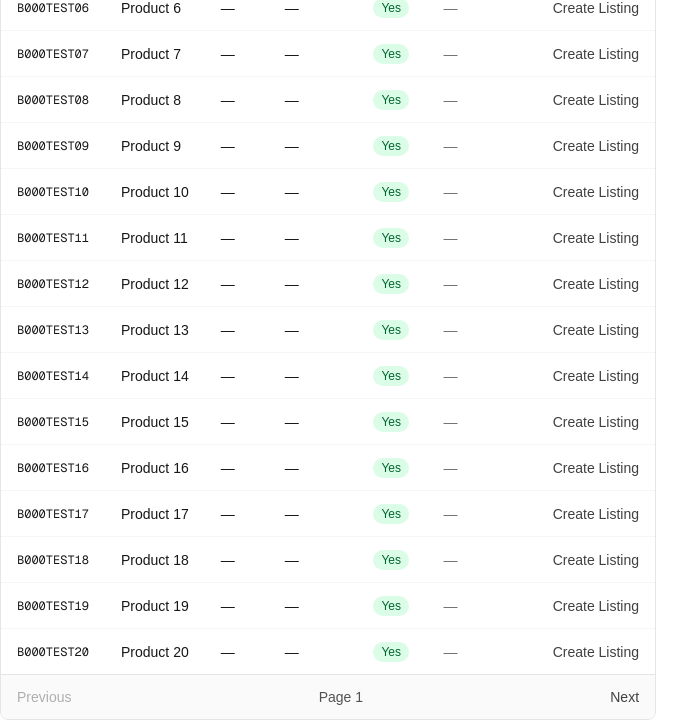
ProductsPage › navigates to previous page
(page scrolled)
Click the button "Next" at (625, 697), box x1=610 y1=687 x2=639 y2=707
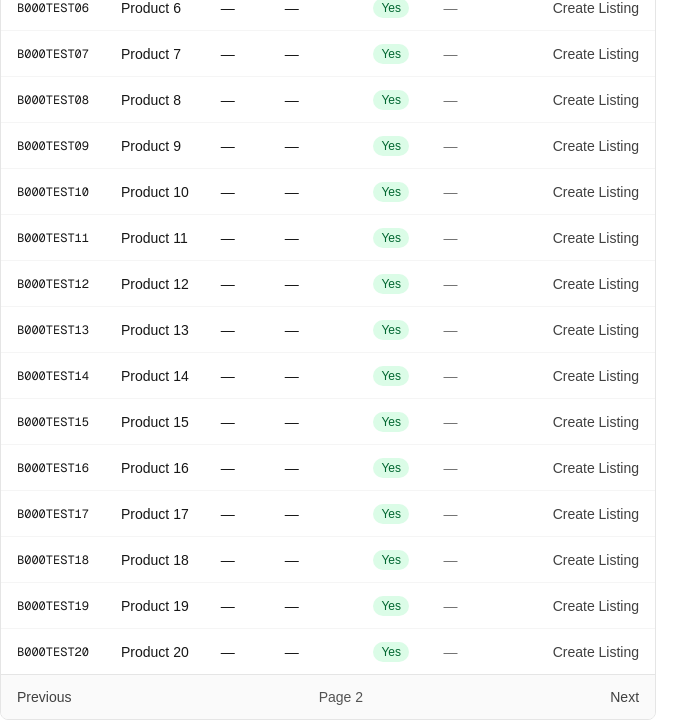
Result: the text "Page 2" is shown at x1=319 y1=687 x2=363 y2=707
Click the button "Previous" at (44, 697), box x1=17 y1=687 x2=72 y2=707
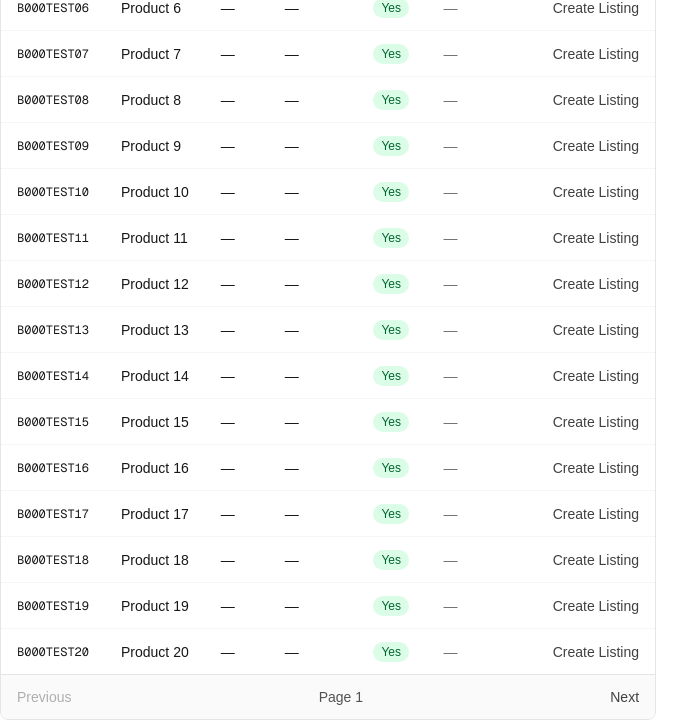
Result: the text "Page 1" is shown at x1=319 y1=687 x2=363 y2=707
